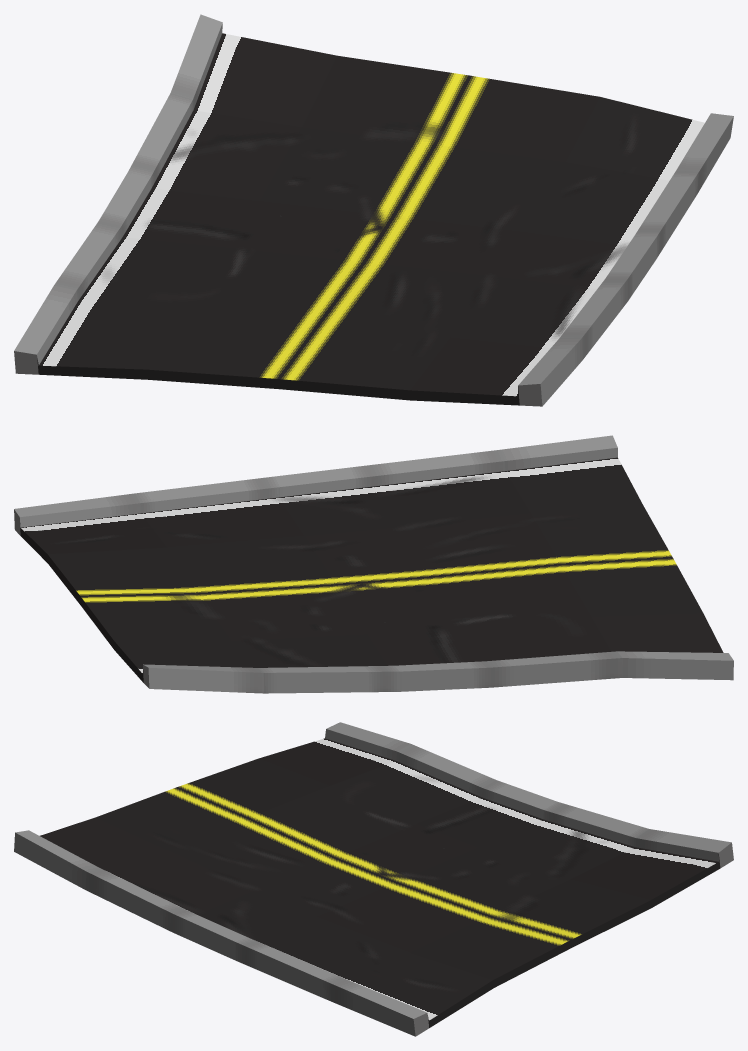
The model's file is Road Patch.glb.
3 renders of one model, top to bottom at view 1: azimuth 30°, elevation 25°; view 2: azimuth 150°, elevation 25°; view 3: azimuth 270°, elevation 25°, orthographic. The views are drawn at different scales.
Visible parts, largest first — view 1: Road model Patch; view 2: Road model Patch; view 3: Road model Patch.
Part boxes in pixels (x1=…): Road model Patch: x1=14, y1=14, x2=733, y2=406; Road model Patch: x1=14, y1=435, x2=733, y2=693; Road model Patch: x1=14, y1=722, x2=733, y2=1036.
Bounding box in the file's own units: 3.22 × 0.3382 × 3.15.
Materials: 1 (1 with a texture image).
